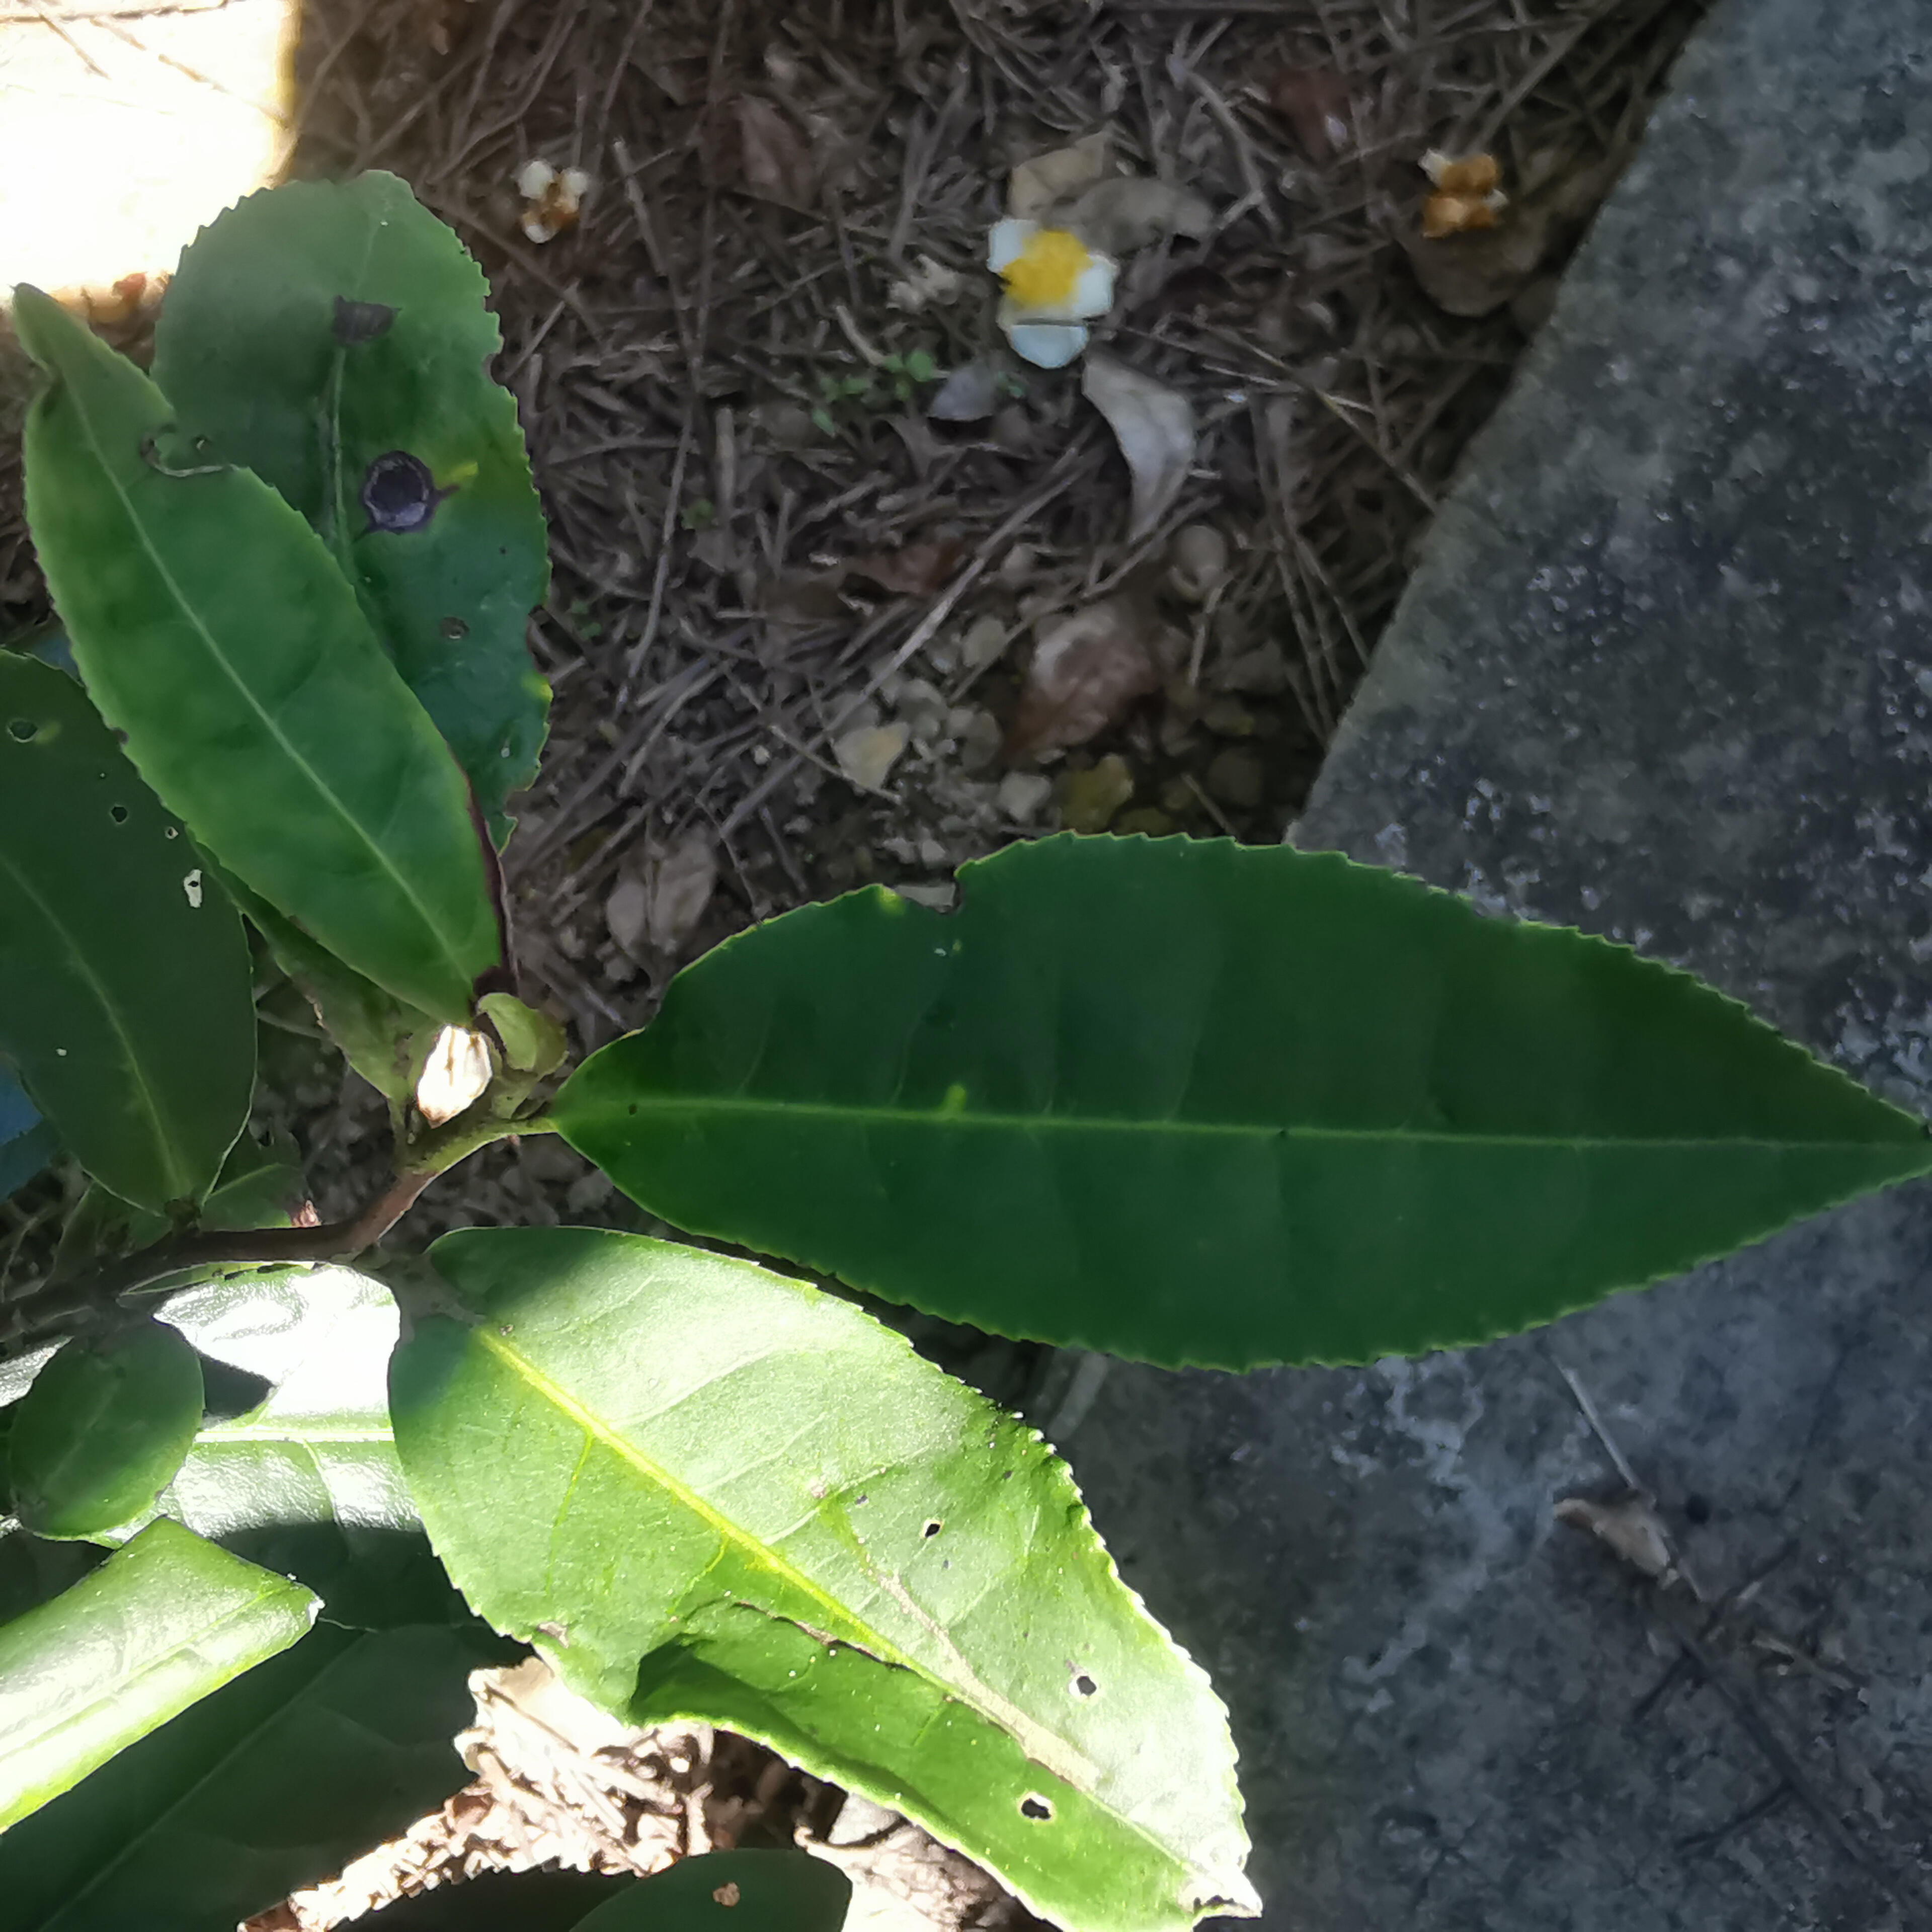chihuo_high: (384, 1215, 1265, 1930), (2, 649, 264, 1221)
chihuo_low: (545, 824, 1923, 1387), (11, 272, 502, 1014)
tanju_high: (143, 165, 559, 863)
